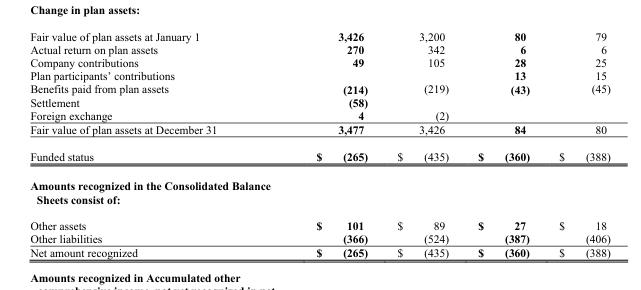table: (29, 29, 609, 258)
table column: (29, 29, 266, 258), (266, 29, 381, 258), (381, 29, 462, 258), (462, 29, 543, 258), (543, 29, 609, 258)
table column header: (29, 29, 609, 42)
table projected row header: (29, 170, 609, 192), (29, 192, 609, 211)
table row: (29, 142, 609, 170), (29, 170, 609, 192), (29, 122, 609, 142), (29, 211, 609, 231), (29, 192, 609, 211), (29, 68, 609, 82), (29, 108, 609, 122), (29, 231, 609, 245), (29, 29, 609, 42), (29, 42, 609, 55), (29, 55, 609, 68), (29, 82, 609, 95), (29, 95, 609, 108), (29, 245, 609, 258)
